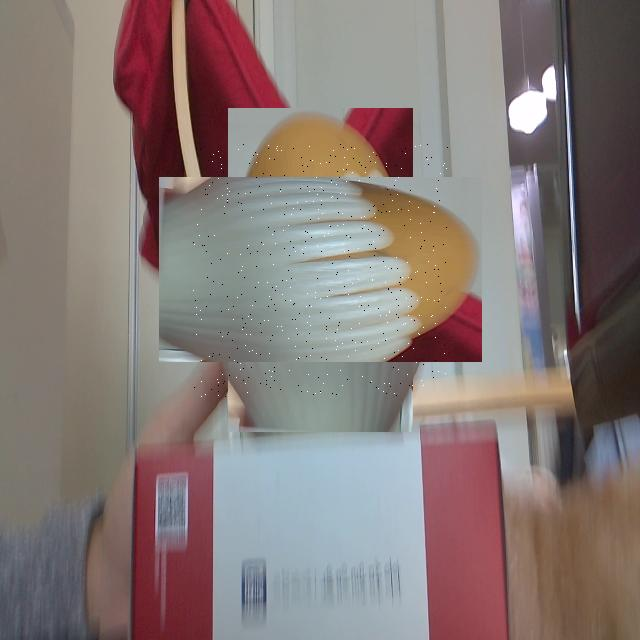pear: (193, 143, 448, 397)
